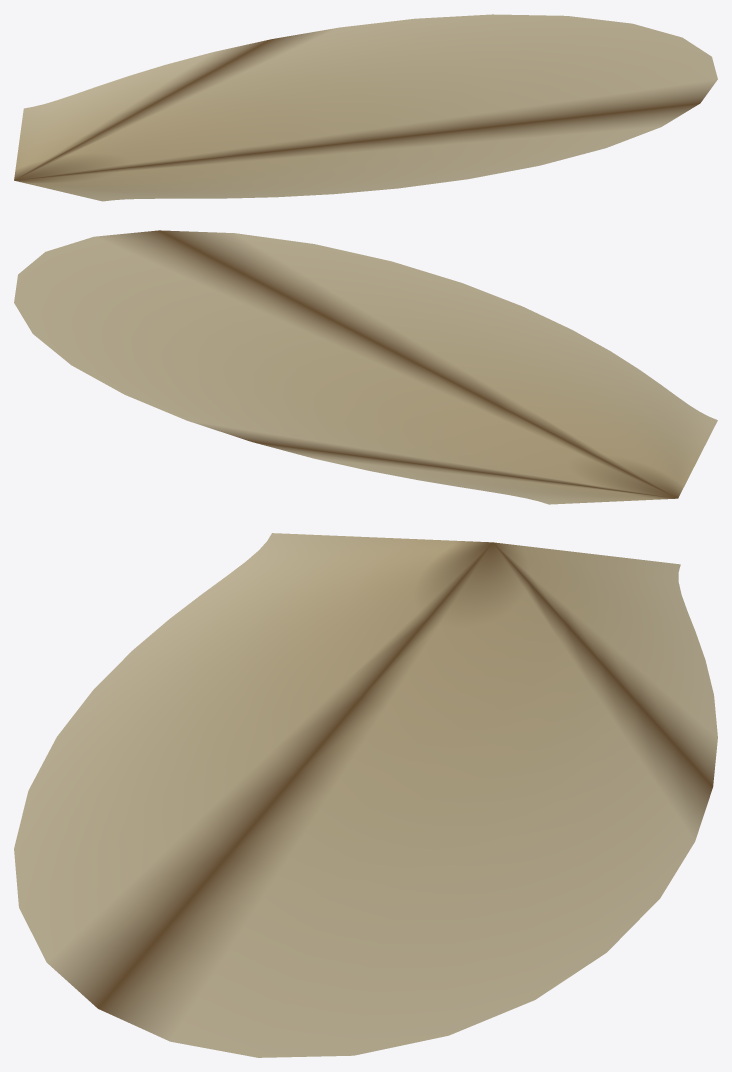
Rendered from Kanabun_Wing.fbx.
3 renders of one model, top to bottom at view 1: azimuth 30°, elevation 25°; view 2: azimuth 150°, elevation 25°; view 3: azimuth 270°, elevation 25°, orthographic. The views are drawn at different scales.
Parts seen in each view (by area): view 1: Kanabun_Wing; view 2: Kanabun_Wing; view 3: Kanabun_Wing.
Boxes of the visible parts, x1,y1,x2,y2 form: Kanabun_Wing: (14,14,717,201); Kanabun_Wing: (14,230,717,504); Kanabun_Wing: (14,533,717,1057).
Bounding box in the file's own units: 0.7281 × 0.02 × 0.3954.
